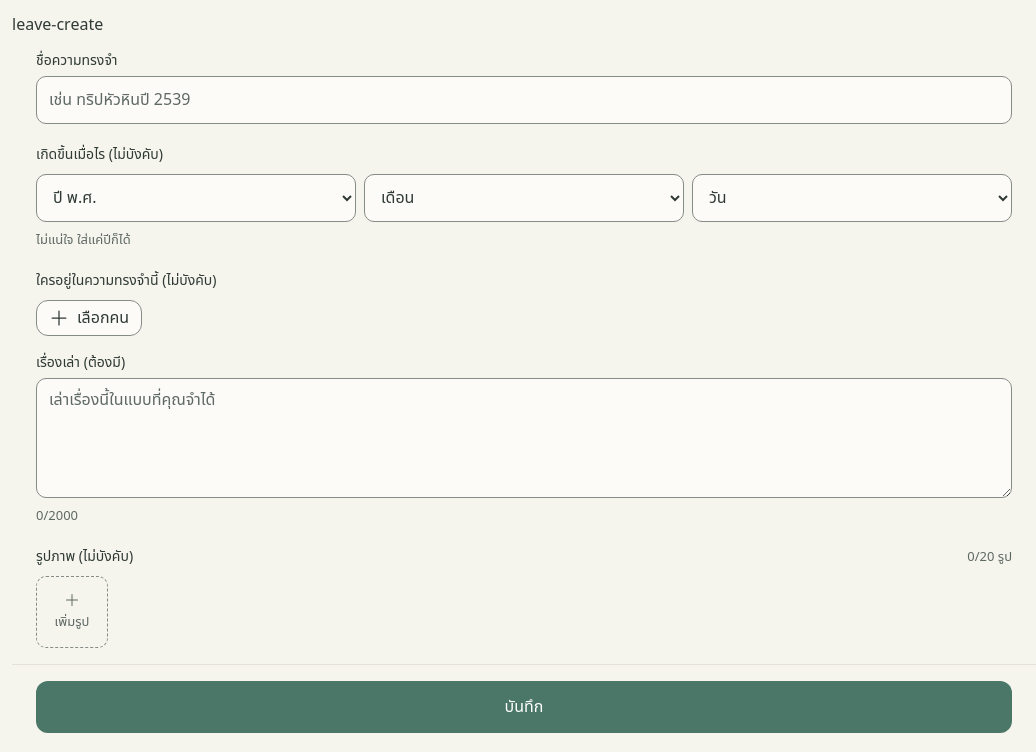
CreateMemoryPage › shows a save-failed alert from existing error copy
The image size is (1036, 752).
Type "งานบวชน้าชัย" into the field labelled "ชื่อความทรงจำ" at point(524, 100), box left=36, top=76, right=1012, bottom=124
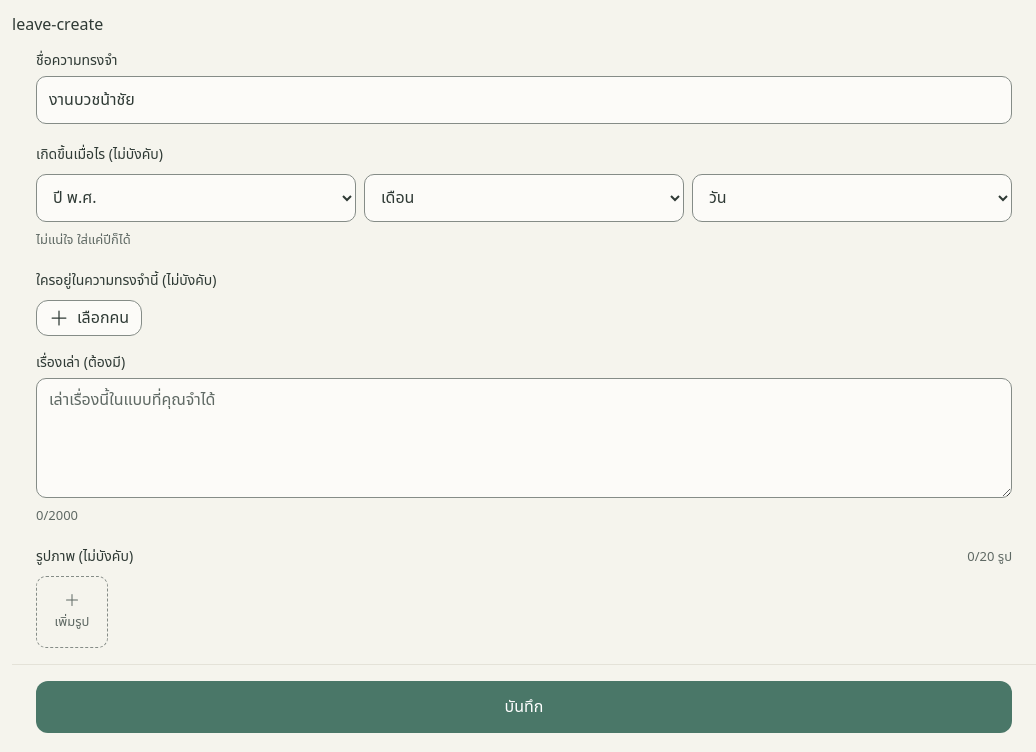
Type "วันนั้นทั้งบ้านตื่นตั้งแต่ตีห้า" into the text box labelled "เรื่องเล่า (ต้องมี)" at point(524, 438), box left=36, top=378, right=1012, bottom=498
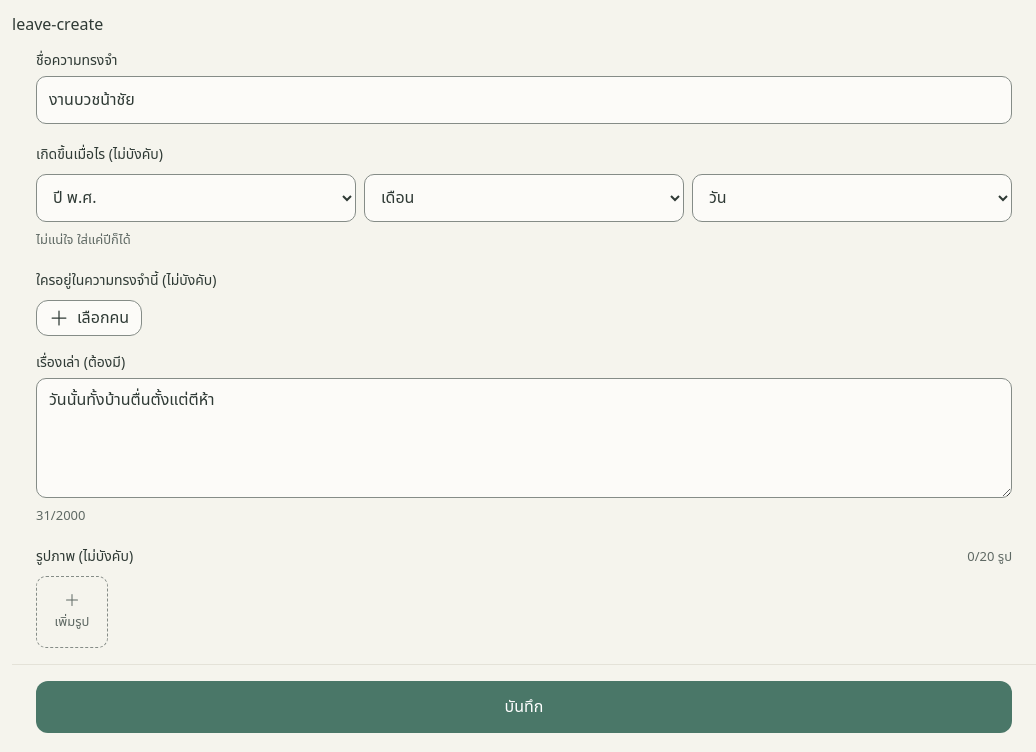
Click the button "บันทึก" at point(524, 707), box left=36, top=681, right=1012, bottom=733
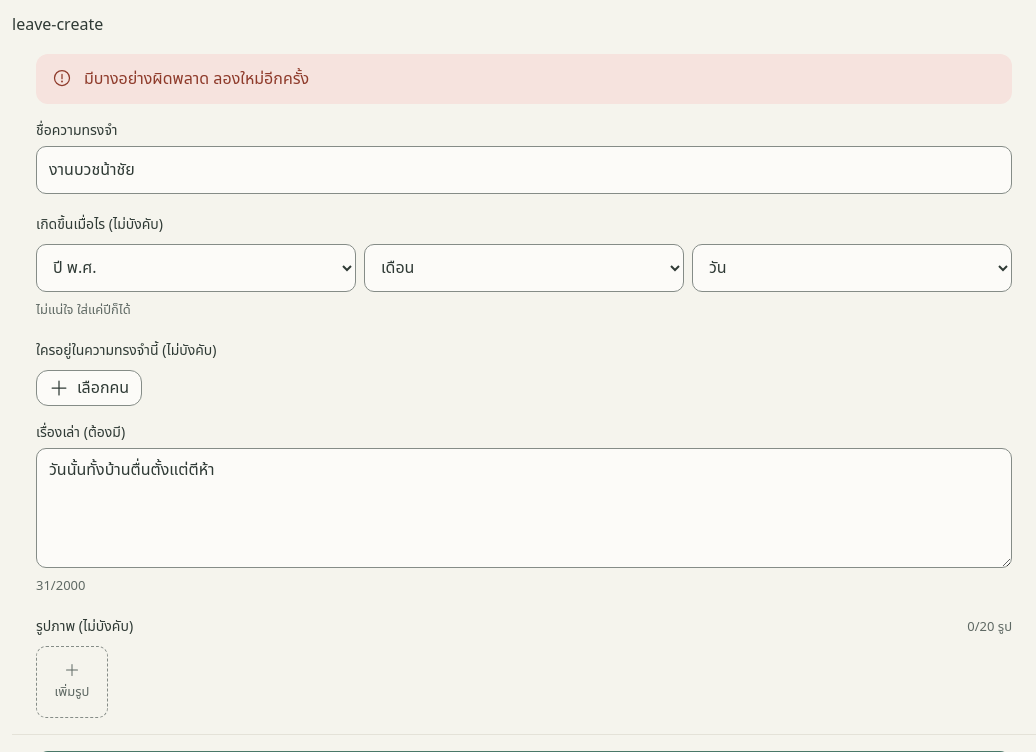
Expected: the text "มีบางอย่างผิดพลาด ลองใหม่อีกครั้ง" is shown, left=84, top=66, right=309, bottom=92
